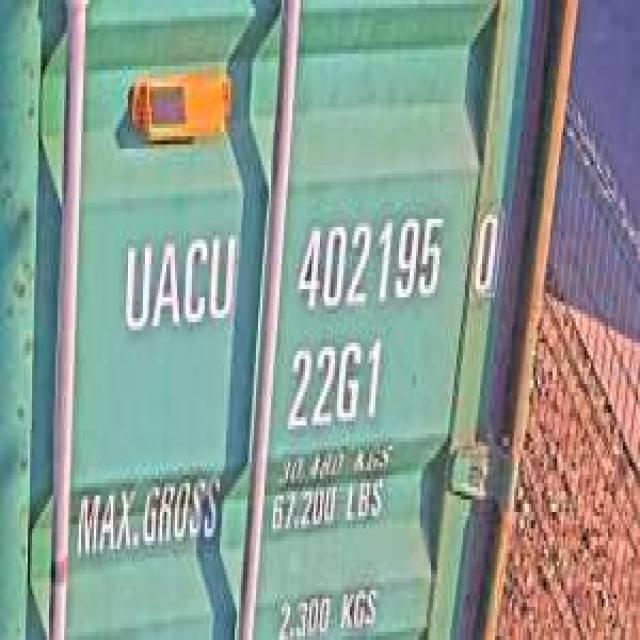dv: (467, 190, 504, 301)
owner: (117, 219, 237, 338)
serial: (292, 198, 448, 318)
size: (279, 331, 384, 434)
